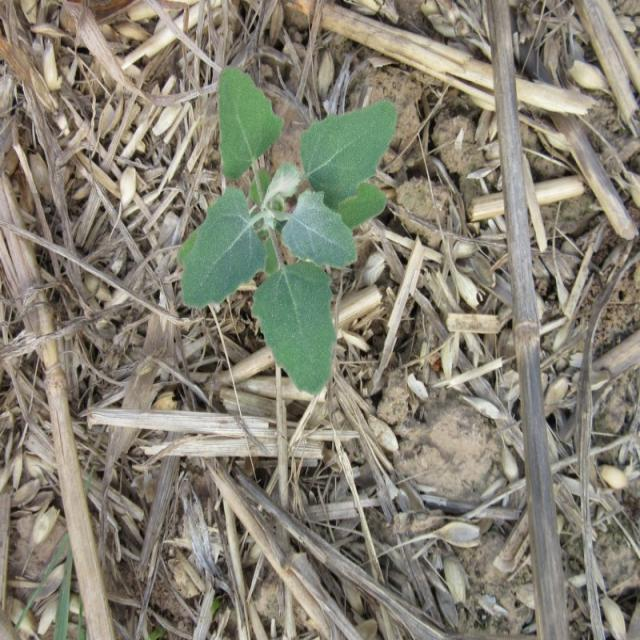ca: (184, 66, 392, 396)
